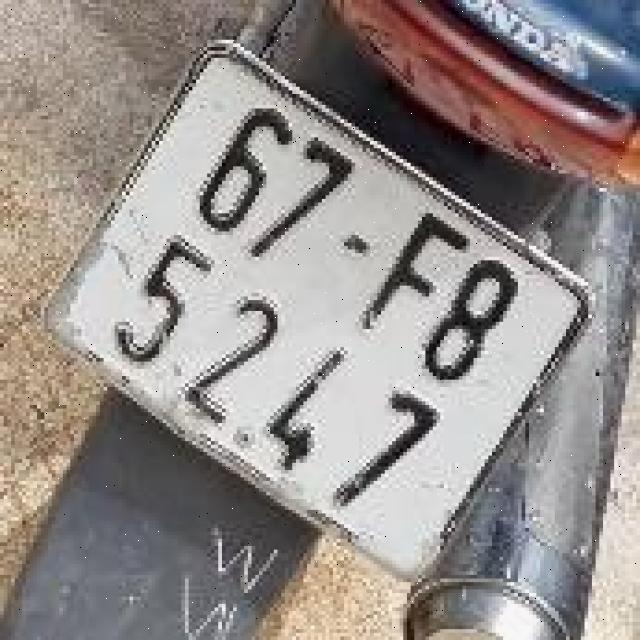2: (161, 276, 302, 440)
4: (240, 323, 381, 491)
5: (97, 218, 233, 389)
6: (176, 88, 310, 252)
7: (307, 370, 465, 538), (230, 117, 373, 283)
8: (393, 243, 539, 406)
F: (340, 195, 489, 359)
